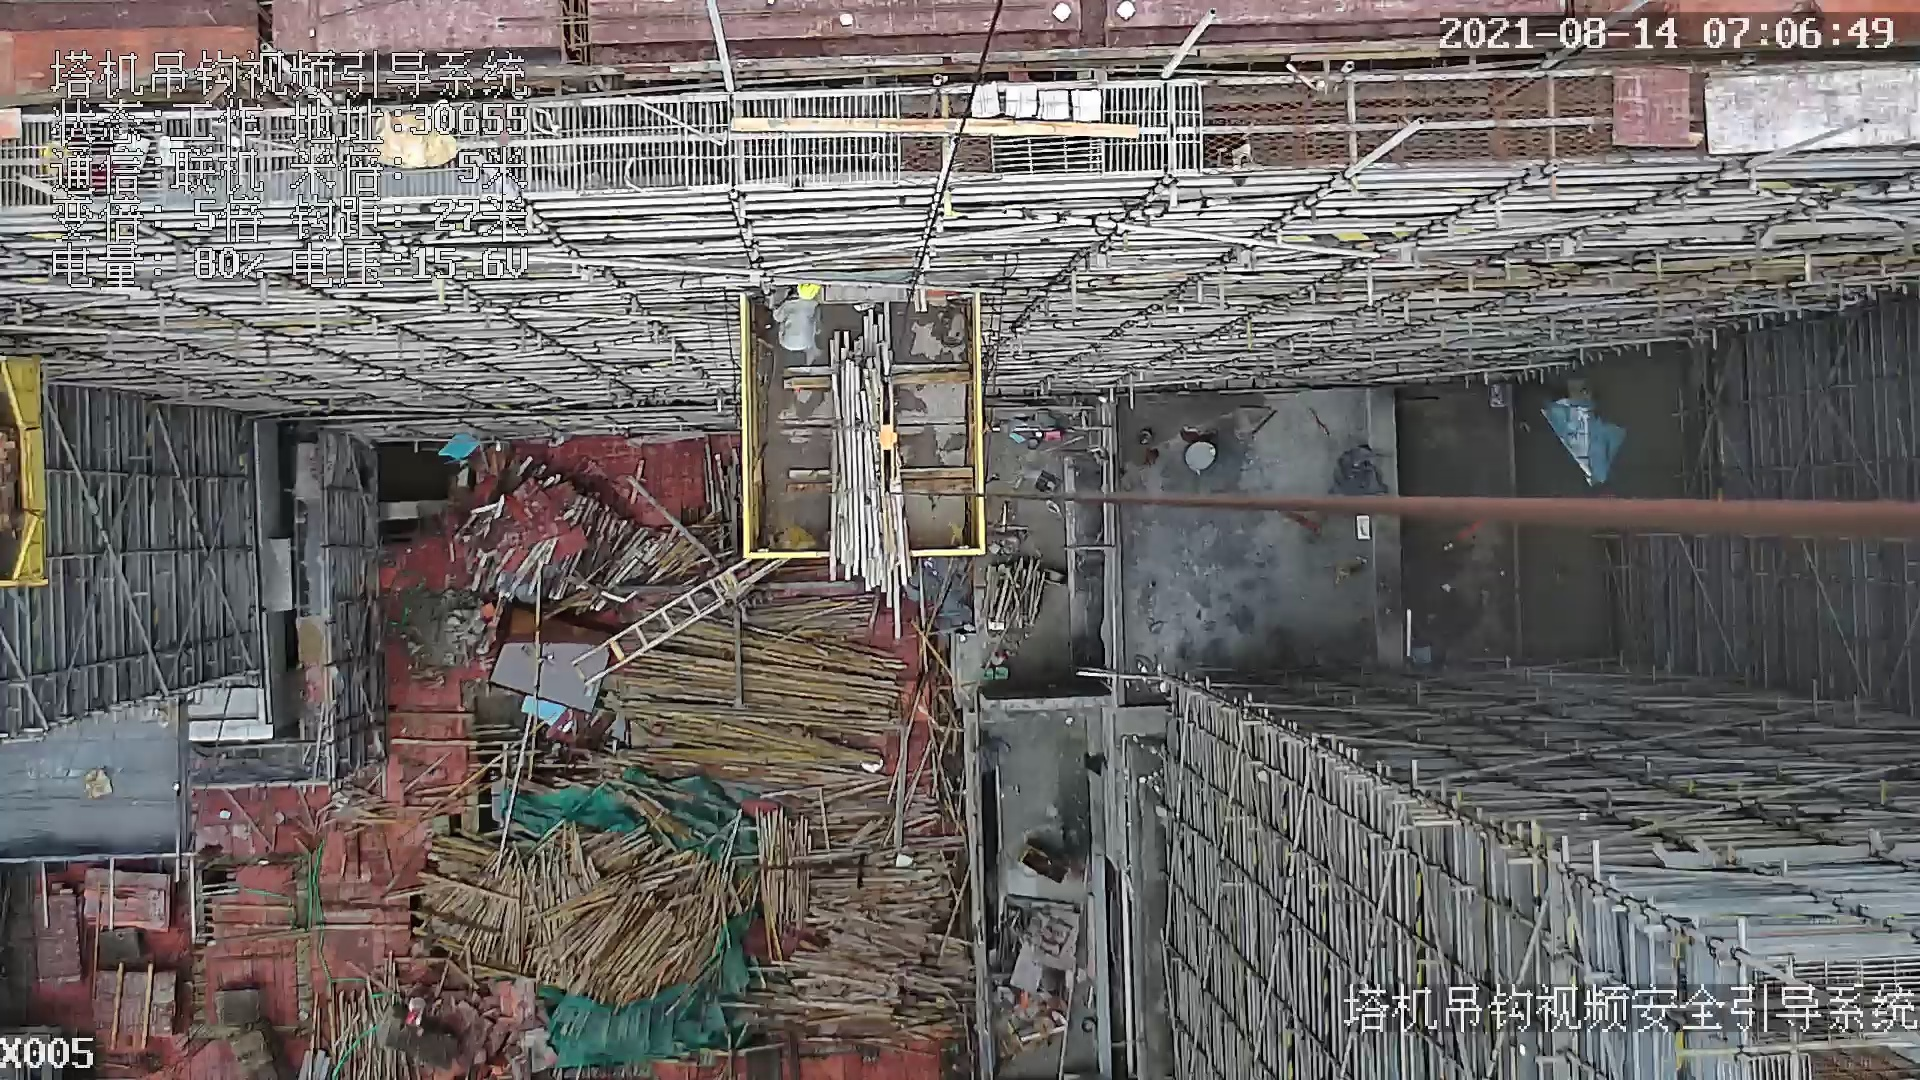hook: (874, 378, 905, 499)
person: (769, 278, 832, 367)
